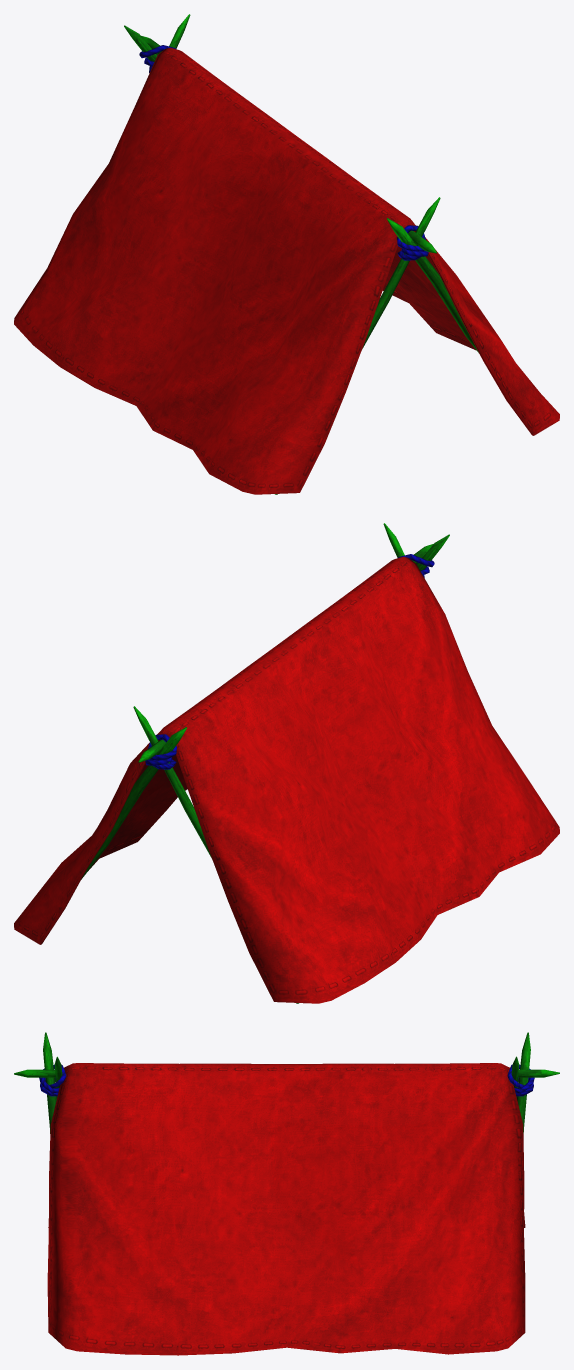
The model's file is Tent01.fbx.
3 views of the same model, one above another, from view 1: azimuth 30°, elevation 25°; view 2: azimuth 150°, elevation 25°; view 3: azimuth 270°, elevation 25° (orthographic). The views are drawn at different scales.
Visible parts, largest first — view 1: Tent01_LOD0; view 2: Tent01_LOD0; view 3: Tent01_LOD0.
Boxes of the visible parts, bbox=[...] form: Tent01_LOD0: bbox=[14, 14, 559, 494]; Tent01_LOD0: bbox=[14, 523, 559, 1003]; Tent01_LOD0: bbox=[14, 1032, 559, 1355].
Size of what is drawn, in the model's own units: 1.79 by 1.34 by 2.74.
